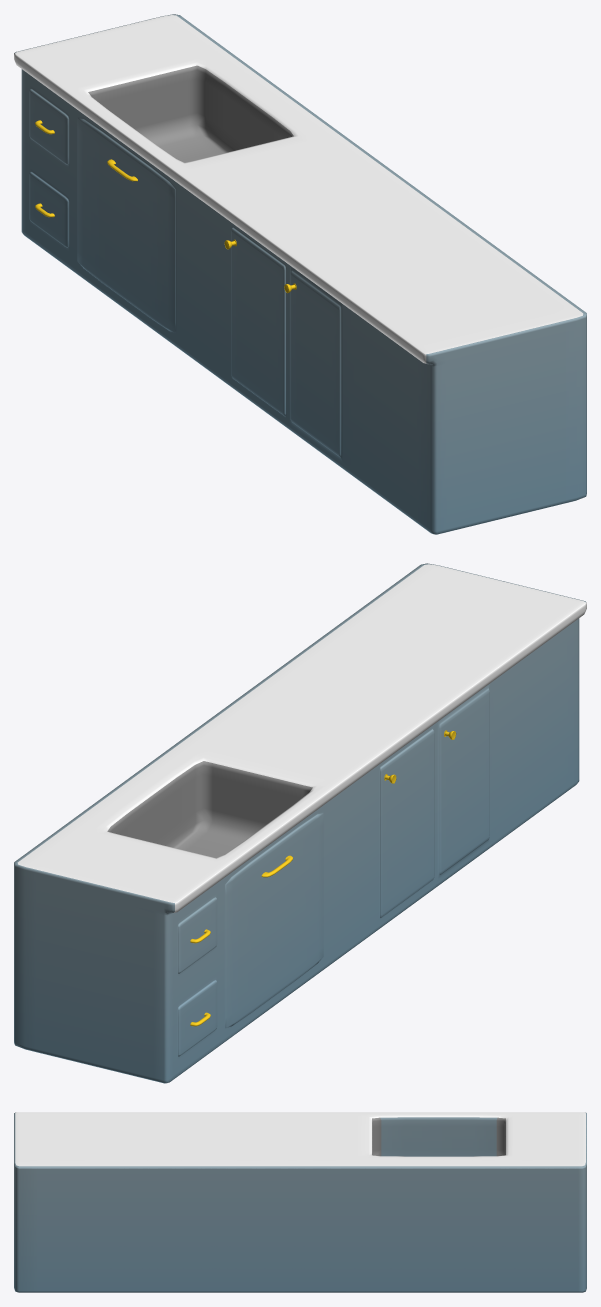
Rendered from PR_kitchenCounter_01.fbx.
3 views of the same model, one above another, from view 1: azimuth 30°, elevation 25°; view 2: azimuth 150°, elevation 25°; view 3: azimuth 270°, elevation 25° (orthographic). The views are drawn at different scales.
Visible parts, largest first — view 1: PR_kitchenCounter_01; view 2: PR_kitchenCounter_01; view 3: PR_kitchenCounter_01.
Boxes of the visible parts, x1,y1,x2,y2 form: PR_kitchenCounter_01: [14, 14, 586, 534]; PR_kitchenCounter_01: [14, 563, 586, 1083]; PR_kitchenCounter_01: [14, 1112, 586, 1292].
Size of the model in its own units: 13027 by 13688 by 56013.
4 materials, 4 textured.
